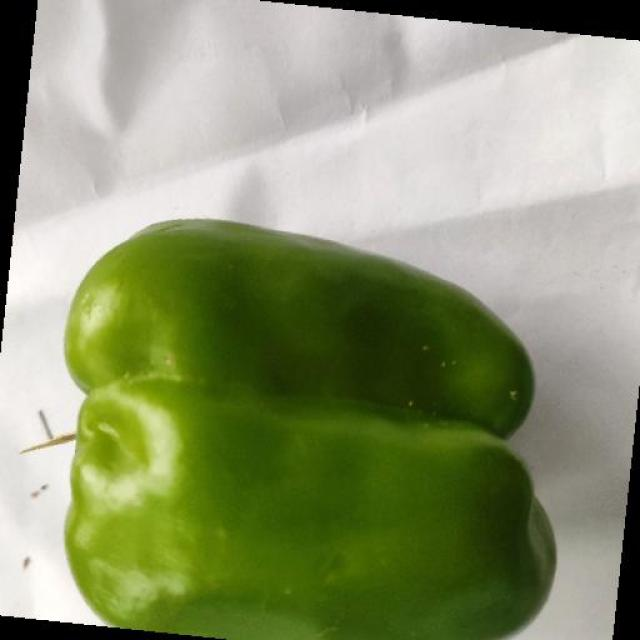Fresh_Capsicum: (18, 194, 640, 640)
